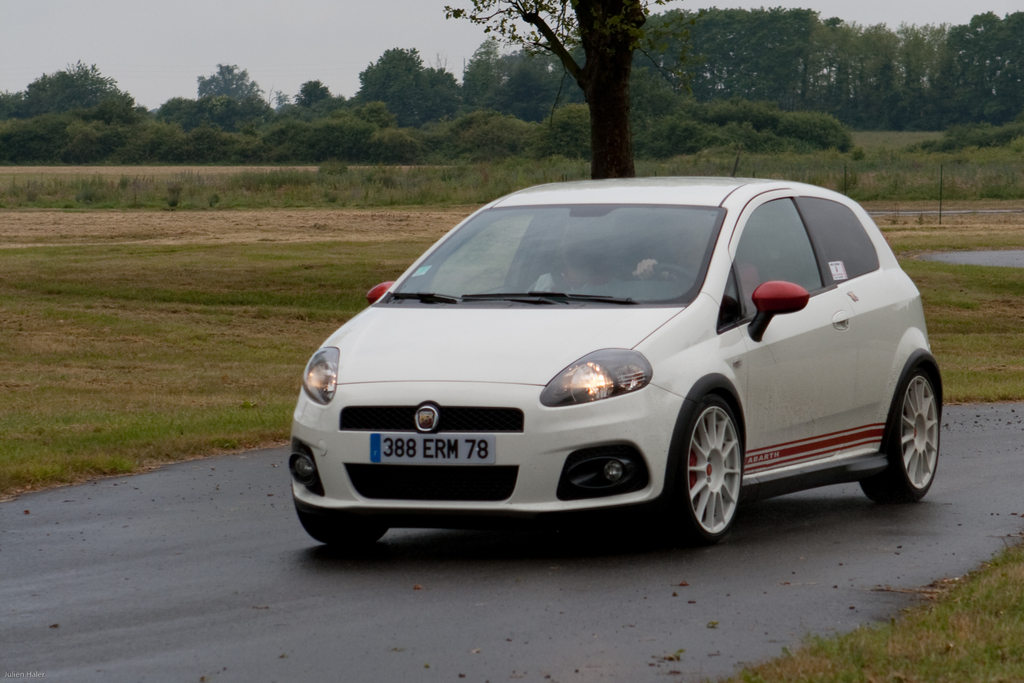Car: (275, 176, 952, 556)
